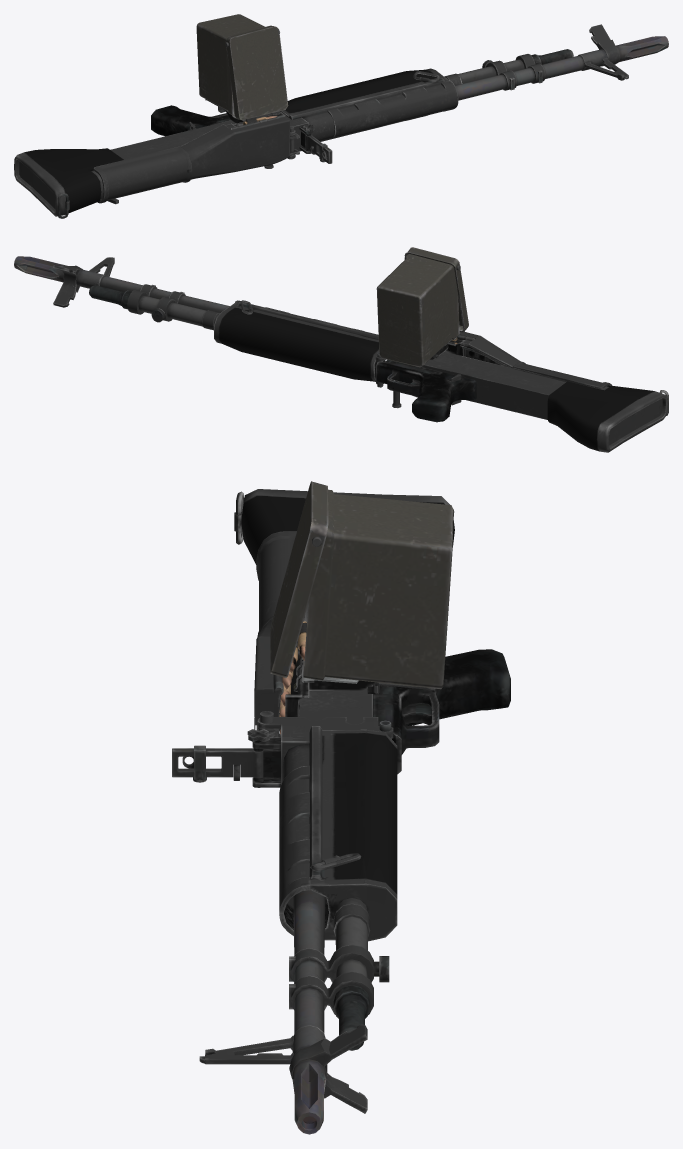
File: M60_Drop.glb
3 renders of one model, top to bottom at view 1: azimuth 30°, elevation 25°; view 2: azimuth 150°, elevation 25°; view 3: azimuth 270°, elevation 25°, orthographic. The views are drawn at different scales.
Parts seen in each view (by area): view 1: M60_upd, M60_upd_mag, M60_upd_box; view 2: M60_upd, M60_upd_box, M60_upd_mag; view 3: M60_upd, M60_upd_box, M60_upd_mag.
Boxes of the visible parts, bbox=[...] form: M60_upd: bbox=[14, 24, 668, 218]; M60_upd_mag: bbox=[93, 115, 299, 204]; M60_upd_box: bbox=[196, 14, 288, 120]; M60_upd: bbox=[14, 256, 668, 452]; M60_upd_box: bbox=[376, 247, 468, 367]; M60_upd_mag: bbox=[455, 331, 611, 389]; M60_upd: bbox=[172, 489, 510, 1134]; M60_upd_box: bbox=[270, 481, 454, 694]; M60_upd_mag: bbox=[254, 531, 304, 737].
Bounding box in the file's own units: 0.9215 × 0.2113 × 0.2164.
Materials: 1 (1 with a texture image).
